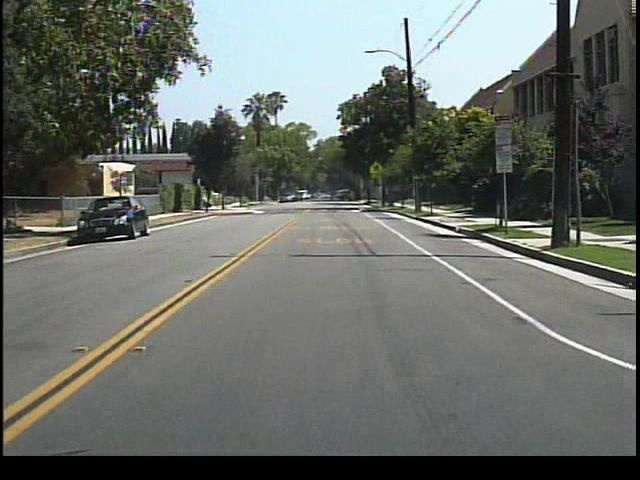person: (325, 186, 339, 204)
